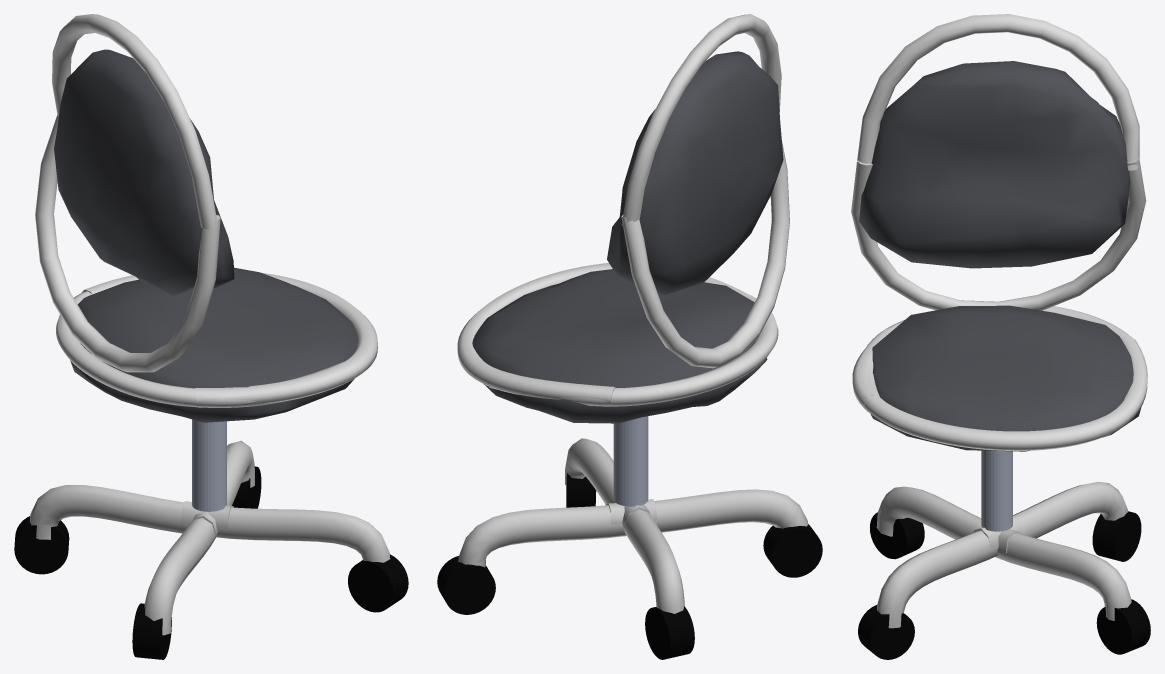
File: chair.glb
3 renders of one model, left to right at view 1: azimuth 30°, elevation 25°; view 2: azimuth 150°, elevation 25°; view 3: azimuth 270°, elevation 25°, orthographic. The views are drawn at different scales.
Visible parts, largest first — view 1: Mball.002, Cylinder.002; view 2: Mball.002, Cylinder.002; view 3: Mball.002, Cylinder.002.
Part boxes in pixels (x1,y1,x2,y2): Mball.002: [35, 14, 377, 422]; Cylinder.002: [14, 419, 408, 659]; Mball.002: [457, 14, 789, 423]; Cylinder.002: [437, 416, 822, 659]; Mball.002: [851, 14, 1147, 451]; Cylinder.002: [858, 450, 1150, 659].
Size of the model in its own units: 7 by 13.87 by 6.87.
Materials: 5 (1 with a texture image).
